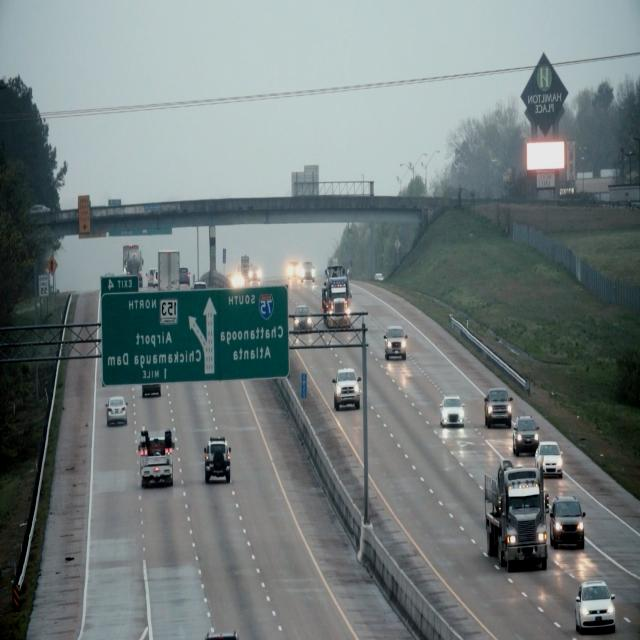Vehicle: (486, 461, 544, 571), (136, 429, 176, 487), (548, 494, 586, 555), (573, 580, 619, 628), (321, 261, 351, 326), (331, 363, 362, 412), (483, 384, 514, 429), (202, 436, 231, 484), (534, 433, 564, 479), (512, 412, 538, 458), (439, 389, 464, 435), (382, 324, 408, 363), (106, 395, 127, 428)
